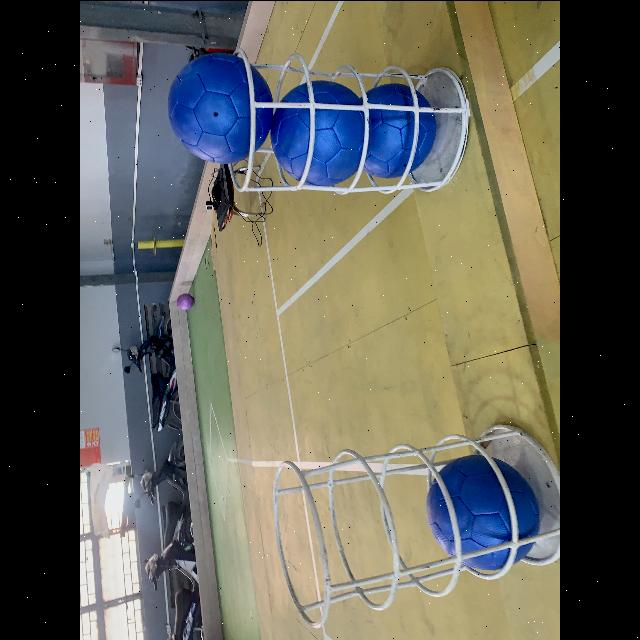B: (424, 456, 542, 568), (167, 51, 273, 163), (273, 84, 359, 186), (358, 80, 432, 180)
